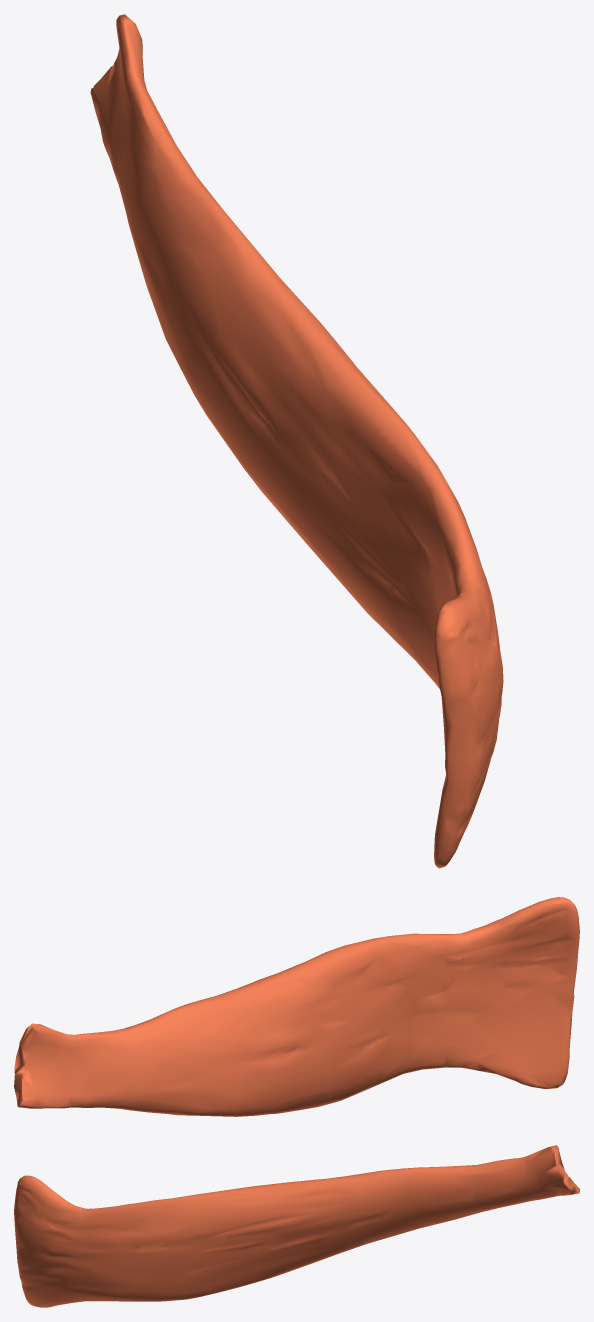
File: Medial_rectus_muscle.r_grp1.007.glb
3 views of the same model, one above another, from view 1: azimuth 30°, elevation 25°; view 2: azimuth 150°, elevation 25°; view 3: azimuth 270°, elevation 25° (orthographic). The views are drawn at different scales.
Parts seen in each view (by area): view 1: Medial_rectus_muscle.r_grp1.007; view 2: Medial_rectus_muscle.r_grp1.007; view 3: Medial_rectus_muscle.r_grp1.007.
Part boxes in pixels (x1,y1,x2,y2): Medial_rectus_muscle.r_grp1.007: (90,14,503,868); Medial_rectus_muscle.r_grp1.007: (14,897,579,1116); Medial_rectus_muscle.r_grp1.007: (14,1145,579,1307).
Bounding box in the file's own units: 0.01 × 0.0166 × 0.0404.
